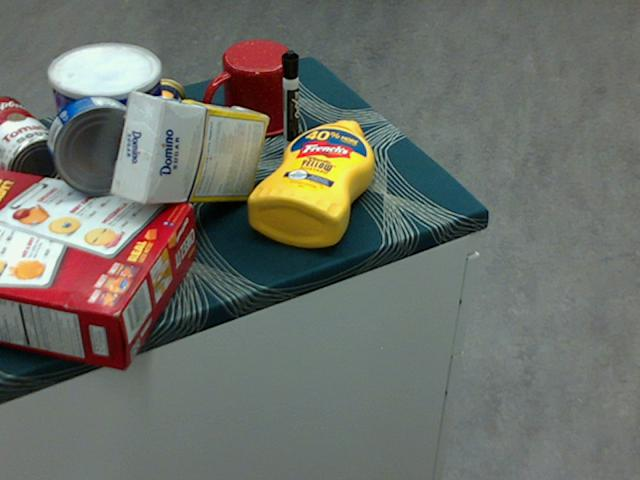cracker_box: (0, 168, 195, 367)
large_marker: (281, 49, 299, 155)
master_chef_can: (50, 44, 168, 219)
mug: (201, 40, 297, 138)
mustard_bottle: (248, 119, 375, 247)
potted_meat_can: (82, 76, 186, 160)
sugar_box: (111, 94, 267, 205)
tomato_soup_can: (0, 93, 70, 195)
tuna_fish_can: (47, 95, 150, 195)
